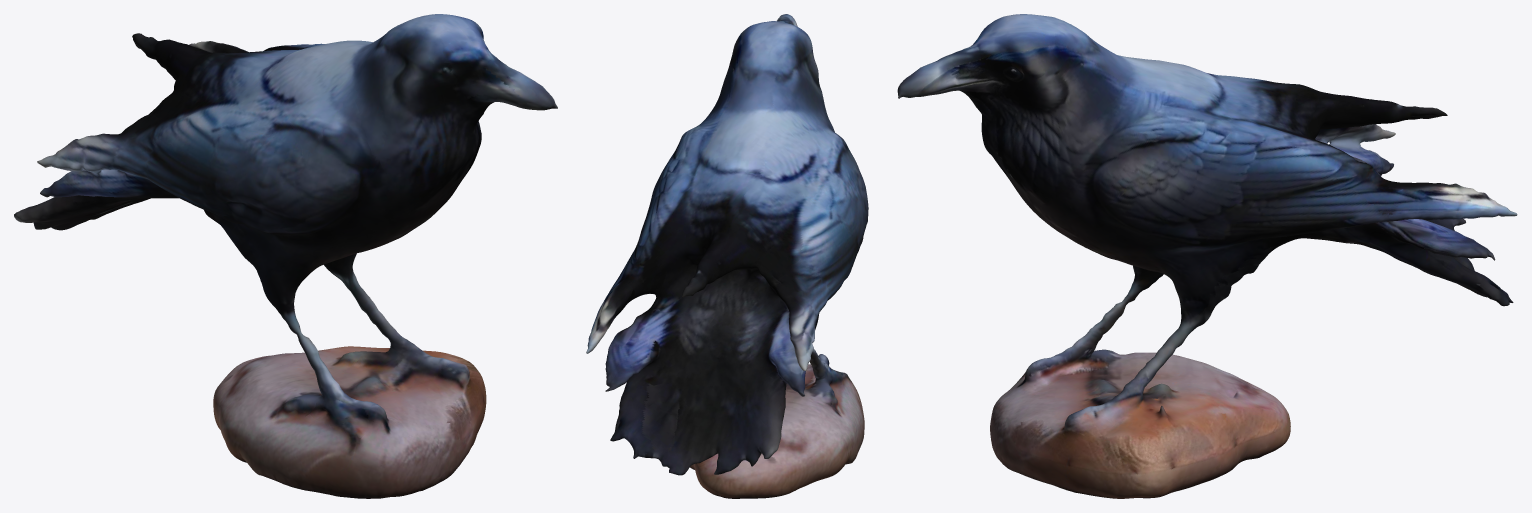
Rendered from rendered_model_10.glb.
3 views of the same model, side by side, from view 1: azimuth 30°, elevation 25°; view 2: azimuth 150°, elevation 25°; view 3: azimuth 270°, elevation 25° (orthographic). The views are drawn at different scales.
Visible parts, largest first — view 1: geometry_0; view 2: geometry_0; view 3: geometry_0.
Boxes of the visible parts, box(x1,y1,x2,y2) form: geometry_0: box(14, 14, 557, 498); geometry_0: box(586, 14, 868, 498); geometry_0: box(897, 14, 1517, 498).
Bounding box in the file's own units: 0.4772 × 0.6763 × 0.8296.
Materials: 1 (1 with a texture image).
